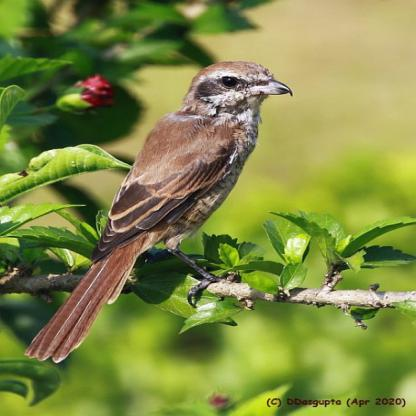Burung: (22, 56, 292, 368)
